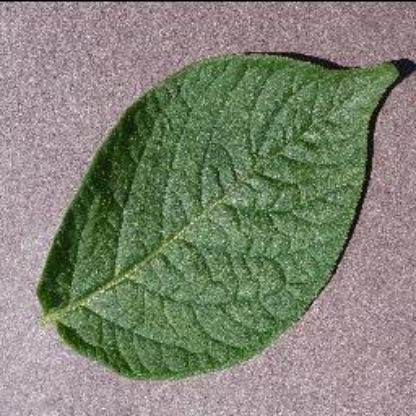Healthy-plant: (36, 48, 400, 382)
